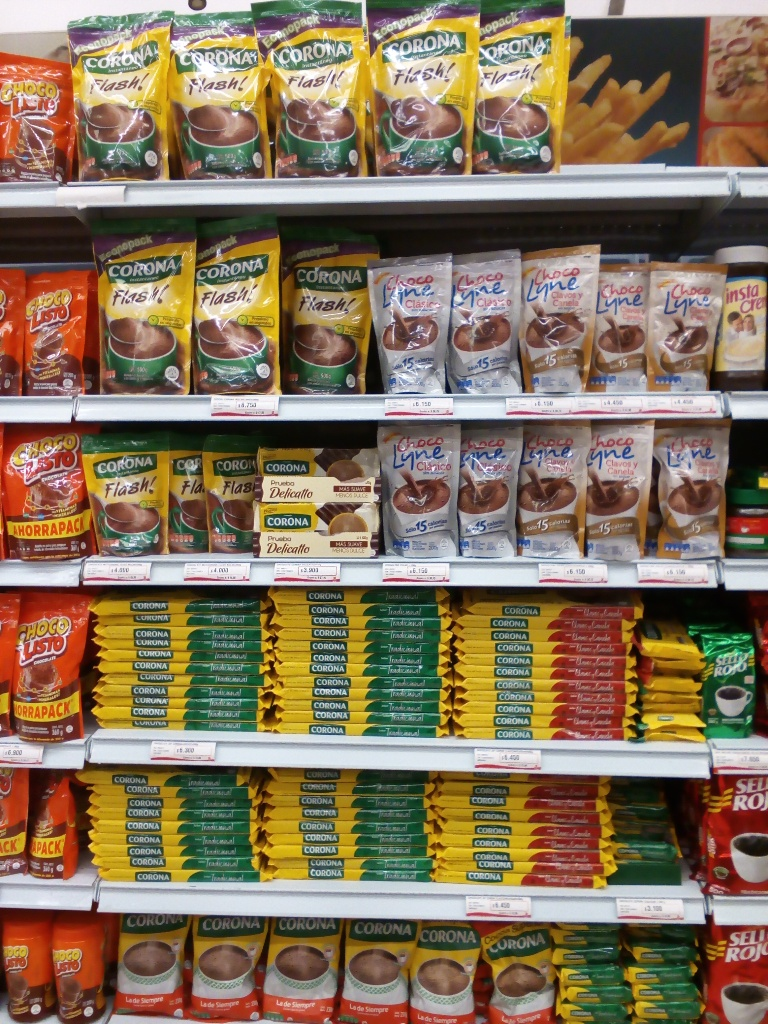COL0170103DYP20000: (27, 271, 93, 401)
COL0170103DYP36000: (15, 592, 90, 742)
COL0170103DYP40000: (1, 52, 76, 184)
COL0170103TRR30000: (54, 918, 108, 1020)
